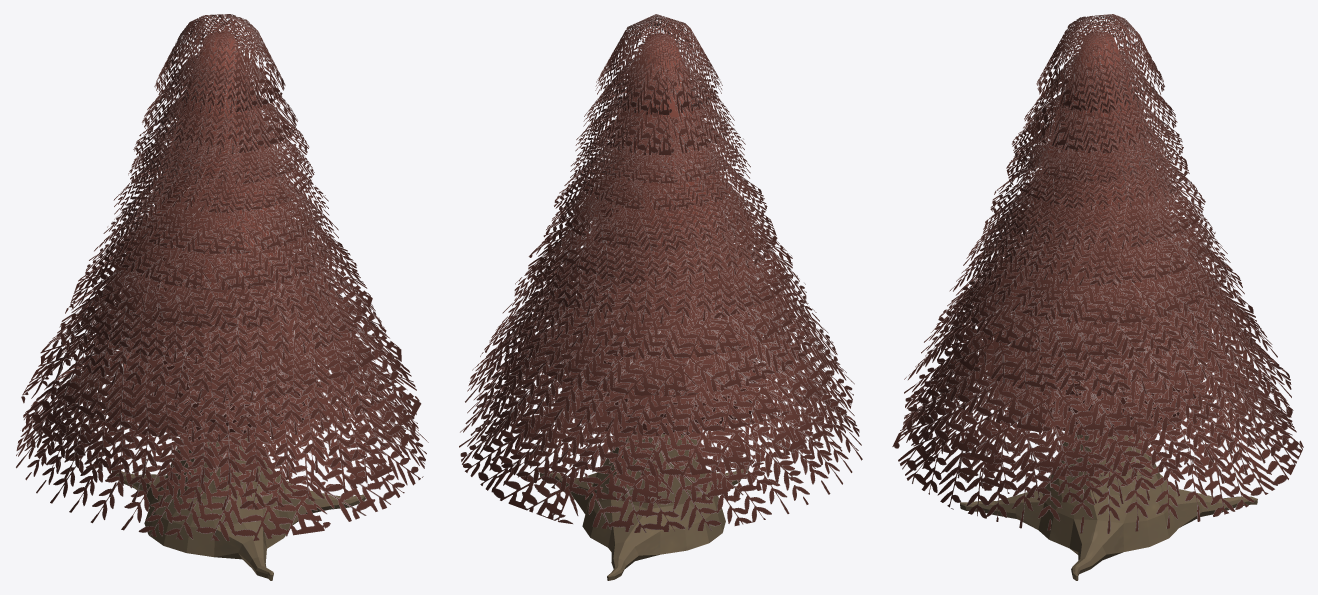
File: CrimsonThree.fbx
The picture shows the model from 3 angles, left to right: view 1: azimuth 30°, elevation 25°; view 2: azimuth 150°, elevation 25°; view 3: azimuth 270°, elevation 25°; orthographic projection.
Visible parts, largest first — view 1: crimsonThree; view 2: crimsonThree; view 3: crimsonThree.
Boxes of the visible parts, x1,y1,x2,y2 form: crimsonThree: (16, 14, 428, 580); crimsonThree: (459, 14, 862, 580); crimsonThree: (892, 14, 1303, 580).
Bounding box in the file's own units: 12.44 × 16.95 × 12.44.
Materials: 1 (1 with a texture image).
